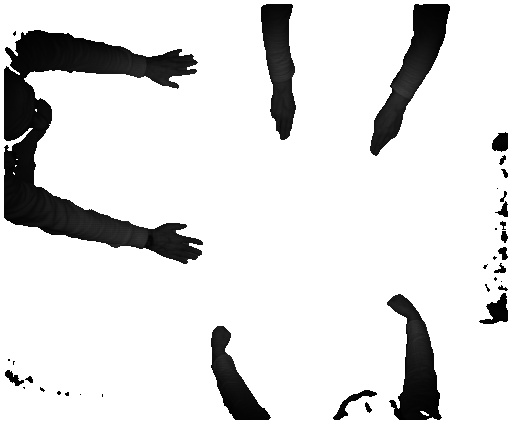fist: (384, 288, 420, 321), (210, 320, 231, 351)
hand: (152, 218, 207, 263), (150, 48, 199, 95), (368, 107, 405, 159), (267, 92, 295, 143)
